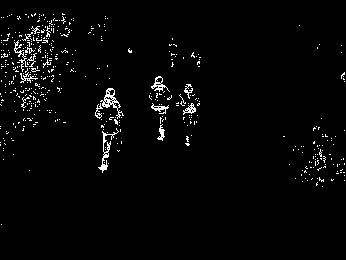person: (95, 86, 123, 173), (176, 80, 203, 147), (149, 76, 172, 141)
